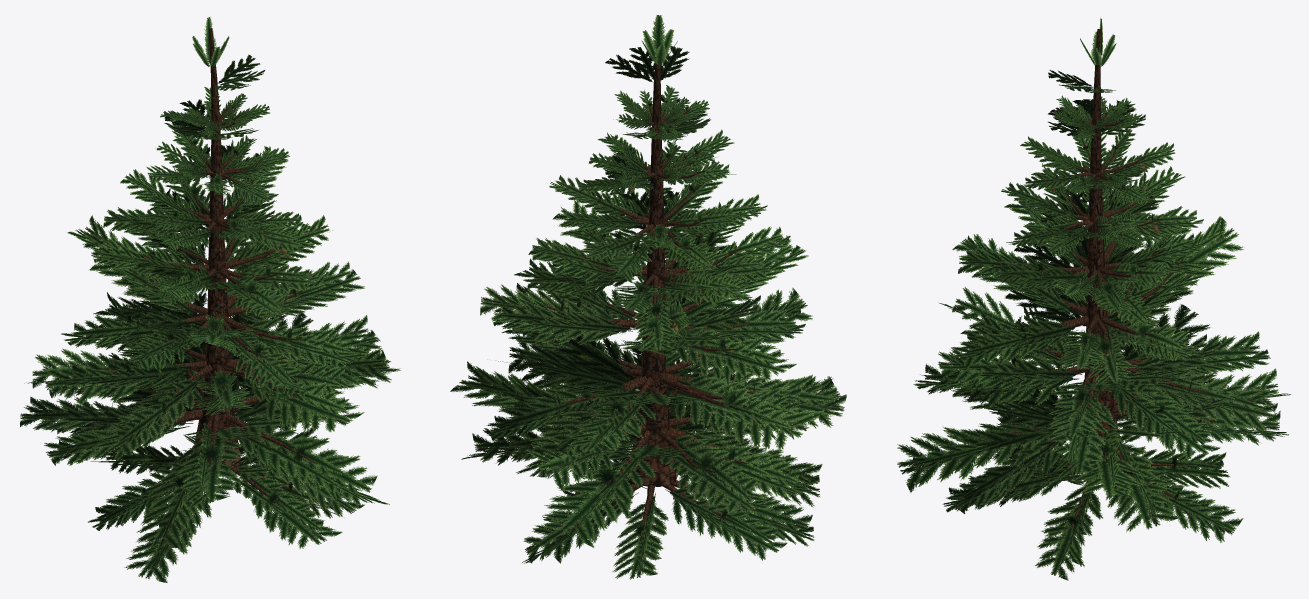
File: pine-small-mid.glb
The picture shows the model from 3 angles, left to right: view 1: azimuth 30°, elevation 25°; view 2: azimuth 150°, elevation 25°; view 3: azimuth 270°, elevation 25°; orthographic projection. The views are drawn at different scales.
Parts seen in each view (by area): view 1: pine_small_mid; view 2: pine_small_mid; view 3: pine_small_mid.
Part boxes in pixels (bbox=[...]): pine_small_mid: bbox=[20, 17, 400, 582]; pine_small_mid: bbox=[450, 15, 846, 579]; pine_small_mid: bbox=[897, 18, 1290, 580].
Bounding box in the file's own units: 6.82 × 9.48 × 6.87.
1 material, 1 textured.
